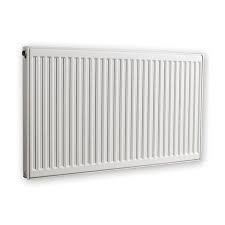Radiator: (20, 44, 206, 183)
